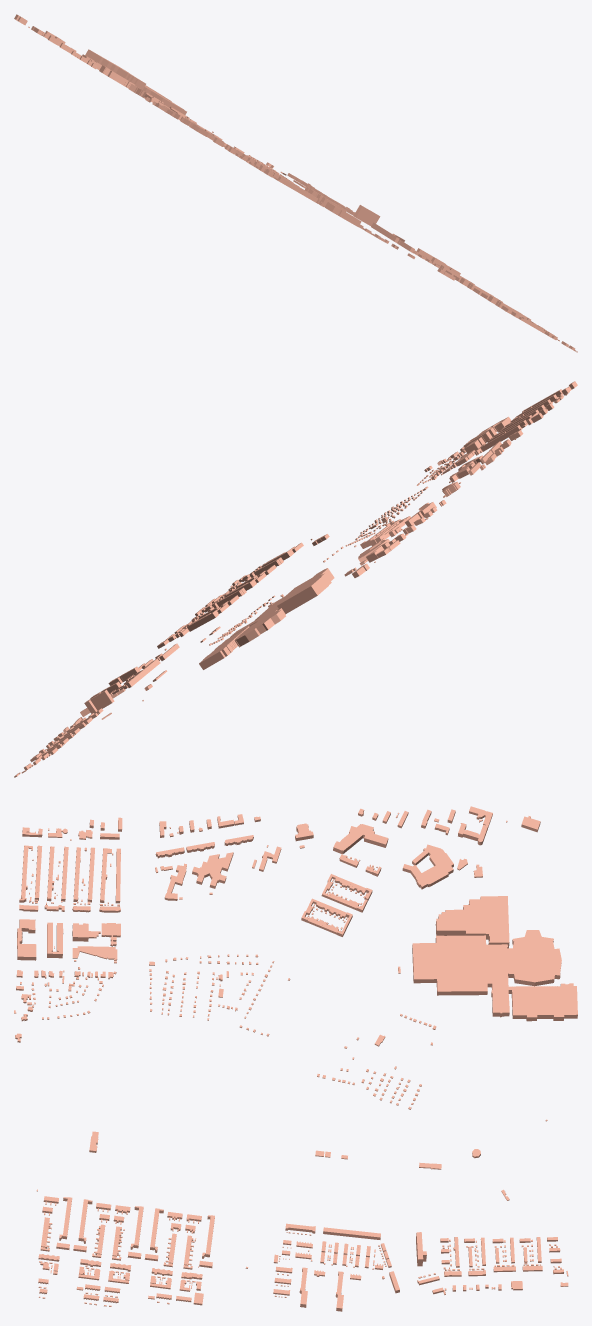
3 renders of one model, top to bottom at view 1: azimuth 30°, elevation 25°; view 2: azimuth 150°, elevation 25°; view 3: azimuth 270°, elevation 25°, orthographic. The views are drawn at different scales.
Size of the model in its own units: 1020 by 777 by 1253.
